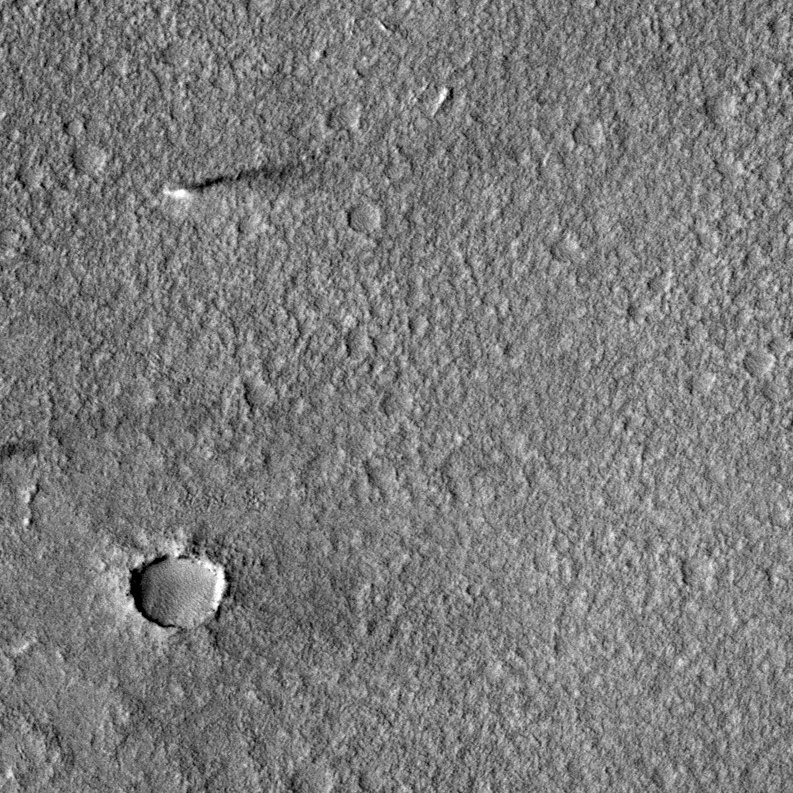dust_devil: (163, 160, 299, 205)
